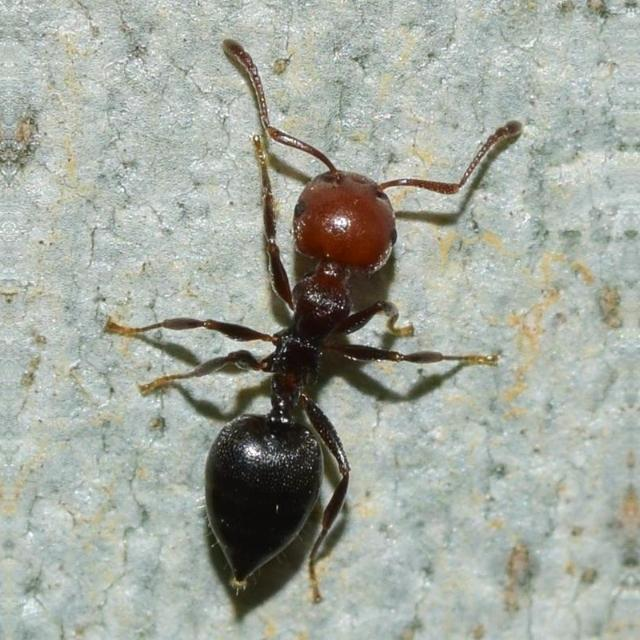Crematogaster: (124, 124, 492, 614)
